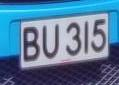1: (81, 18, 93, 59)
3: (64, 19, 84, 61)
5: (90, 16, 109, 56)
8: (21, 23, 42, 66)
U: (41, 21, 63, 63)
